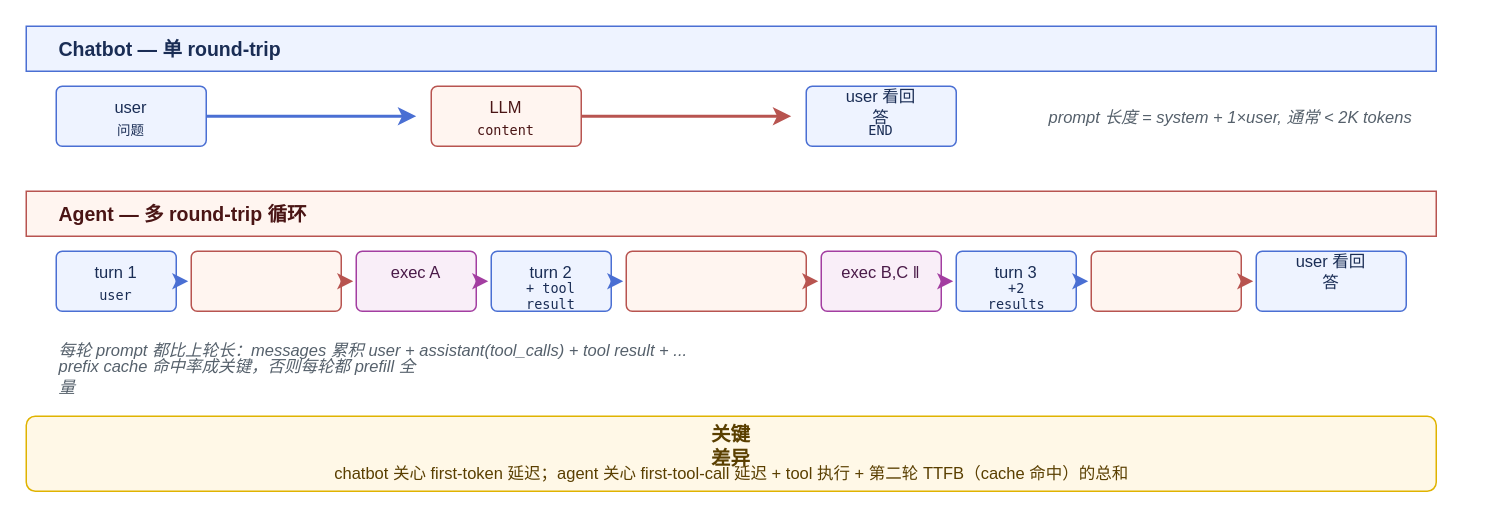
Some shapes in this 1512 by 518 pixel diagram are drawn without their labels. Here are the shapes that lost their labels. From the top down, the centre of each, then its label:
At point 265,280: "tool_calls=[A]".
At point 715,280: "tool_calls=[B,C]".
At point 1165,280: "content (final)".
